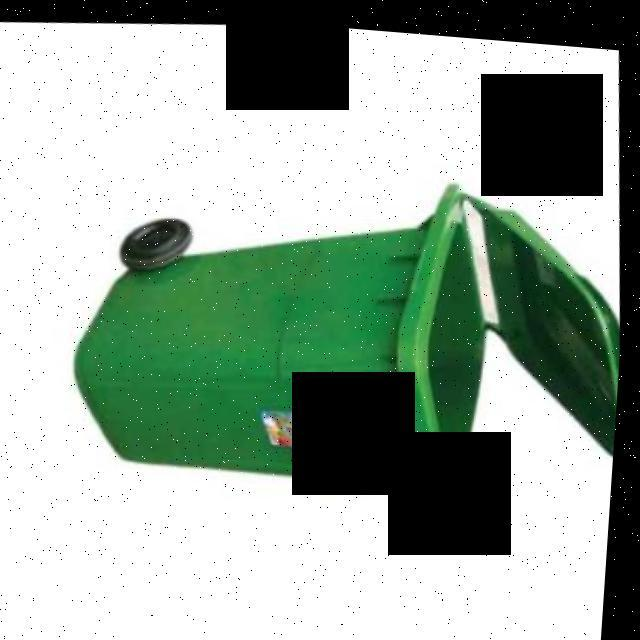bin: (42, 139, 526, 555)
